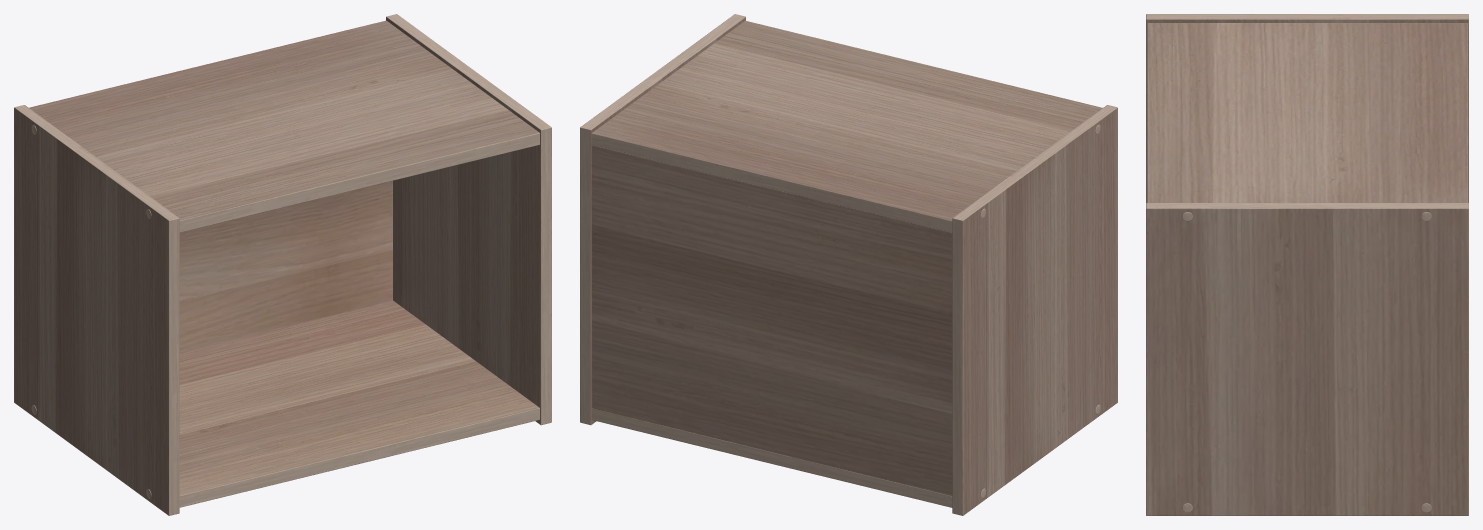
File: abo-B07TZ9BGPC.glb
3 views of the same model, side by side, from view 1: azimuth 30°, elevation 25°; view 2: azimuth 150°, elevation 25°; view 3: azimuth 270°, elevation 25° (orthographic). The views are drawn at different scales.
Bounding box in the file's own units: 0.415 × 0.305 × 0.29.
1 material, 1 textured.
